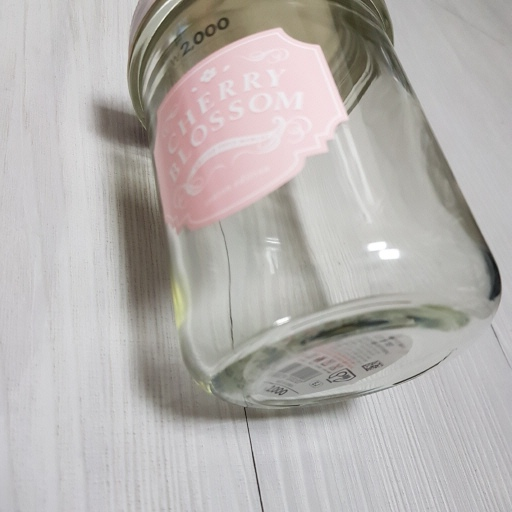Glass_5: (123, 2, 498, 407)
